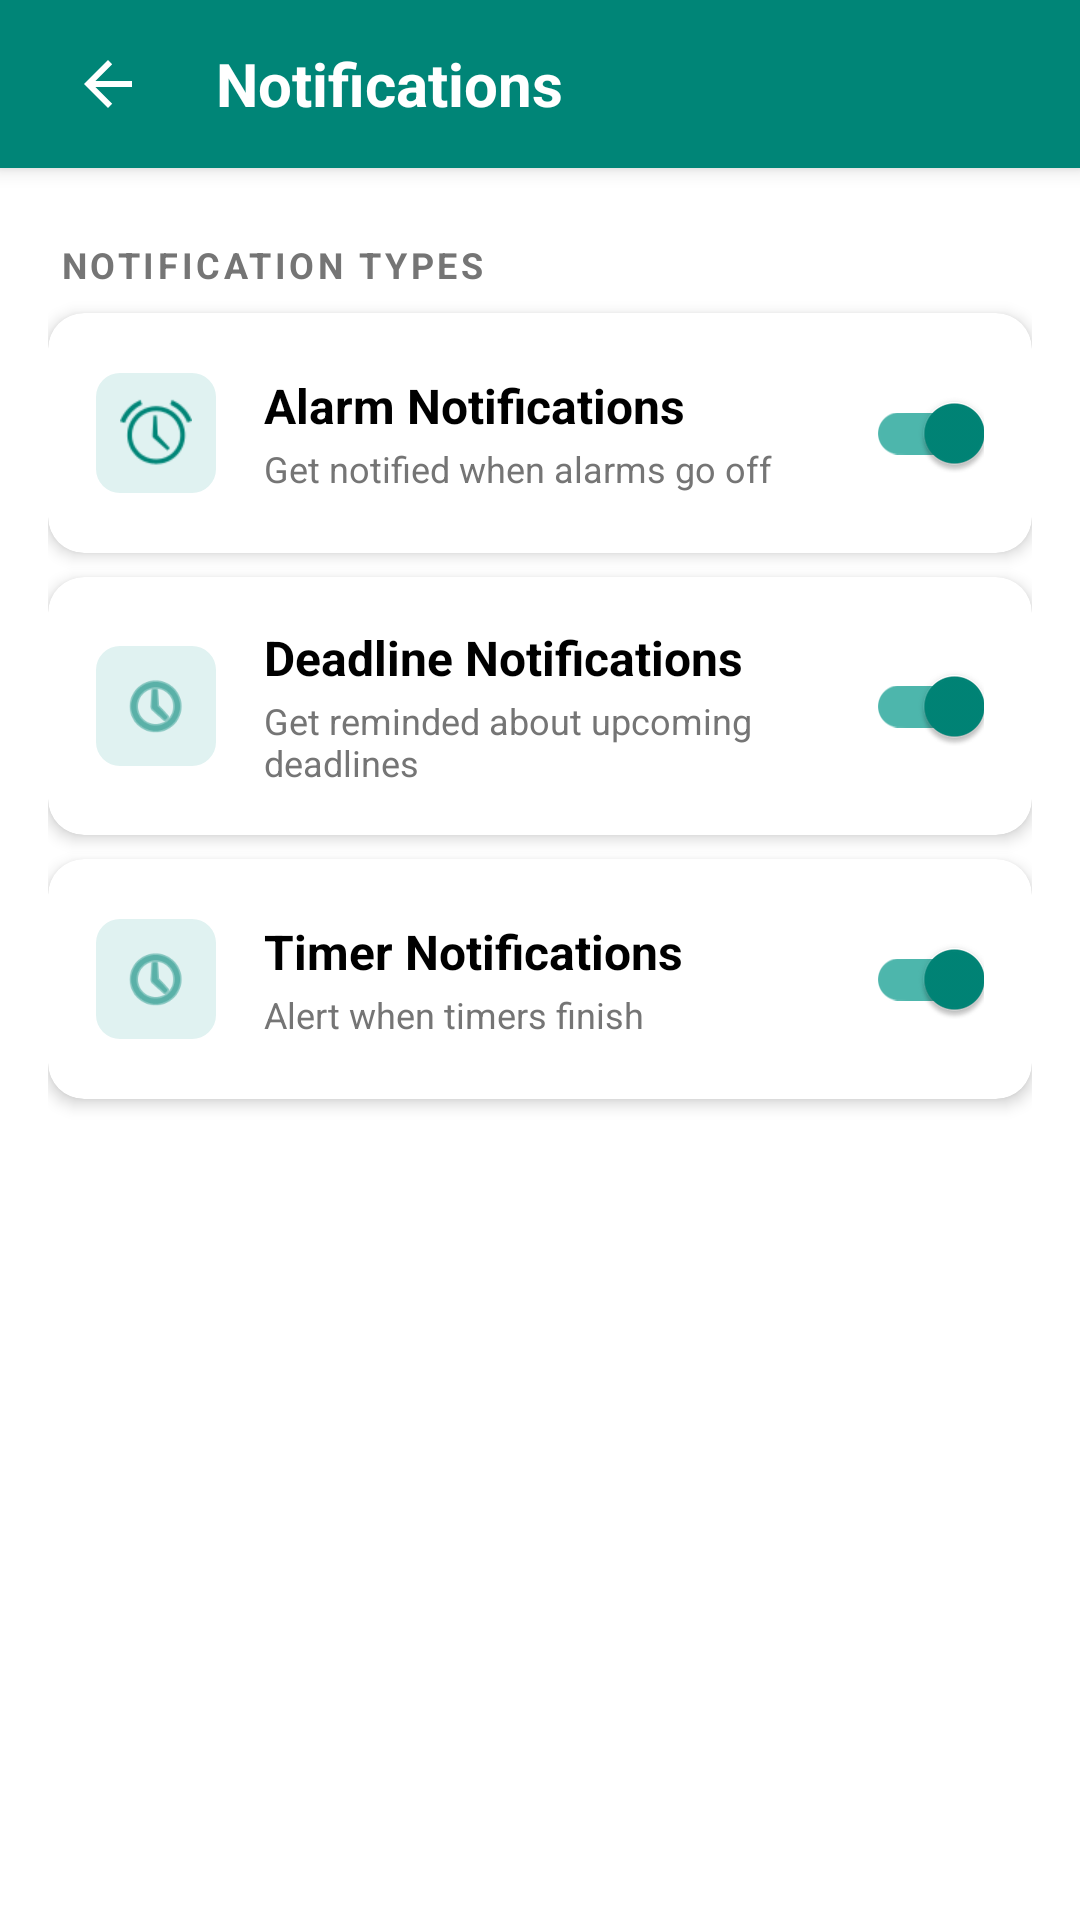

Icons on this 1080px×1920px Android screen, each with the point to tap as [x,y]:
Back: [108,84]
lock idle alarm: [156,433]
recent history: [156,706], [156,979]
